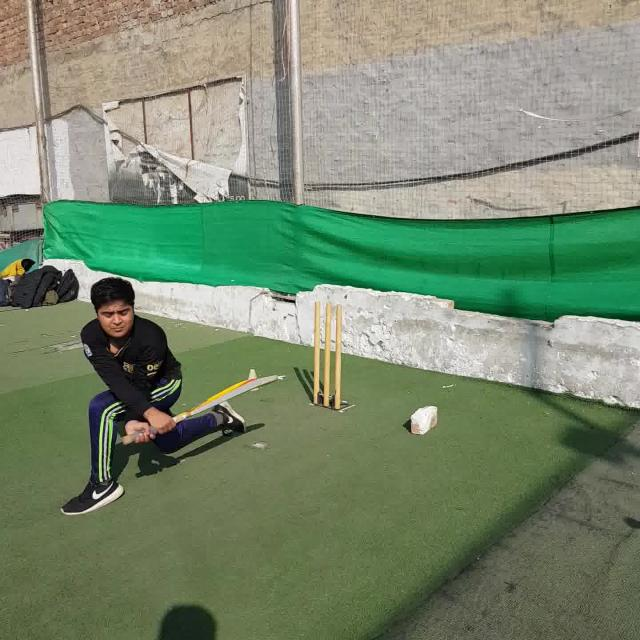bat: (120, 374, 279, 445)
